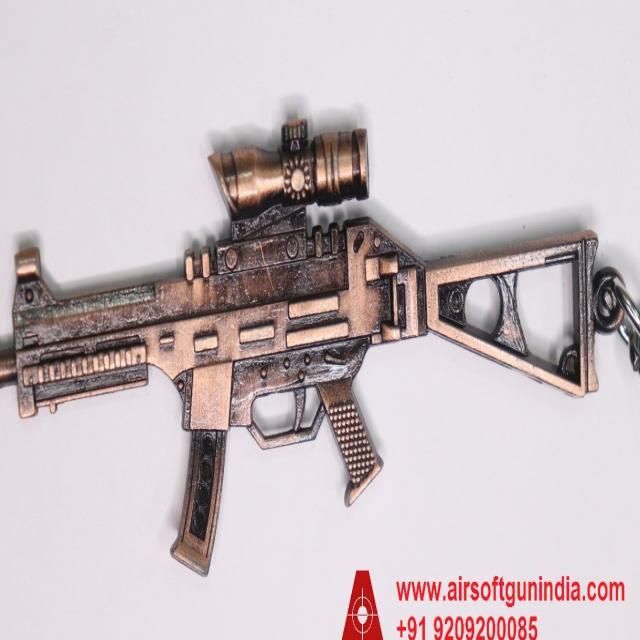Gun: (0, 115, 599, 579)
